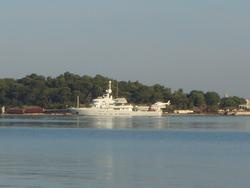yacht: (63, 85, 173, 119)
